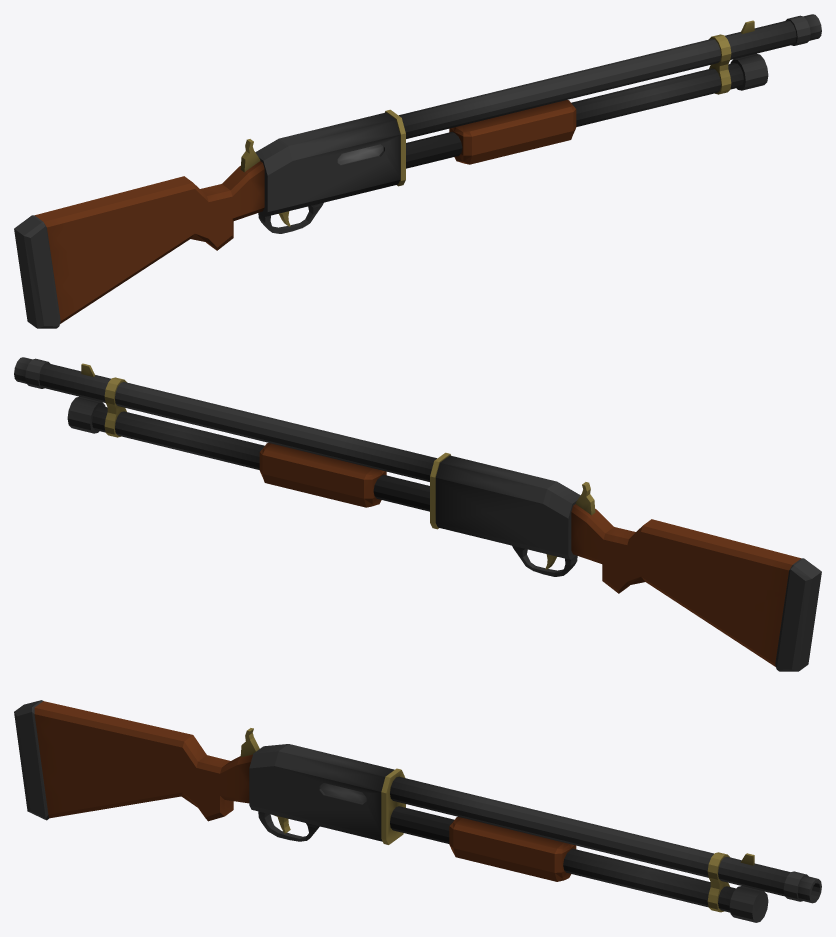
File: v-pump-shotgun-long.glb
The picture shows the model from 3 angles, top to bottom: view 1: azimuth 30°, elevation 25°; view 2: azimuth 150°, elevation 25°; view 3: azimuth 330°, elevation 25°; orthographic projection.
Visible parts, largest first — view 1: body (×3); view 2: body (×3); view 3: body (×4).
Boxes of the visible parts, bbox=[...] form: body (×3): bbox=[14, 14, 821, 328]; body (×3): bbox=[14, 357, 821, 671]; body (×4): bbox=[14, 700, 821, 922].
Bounding box in the file's own units: 1.1 × 0.1793 × 0.0469.
